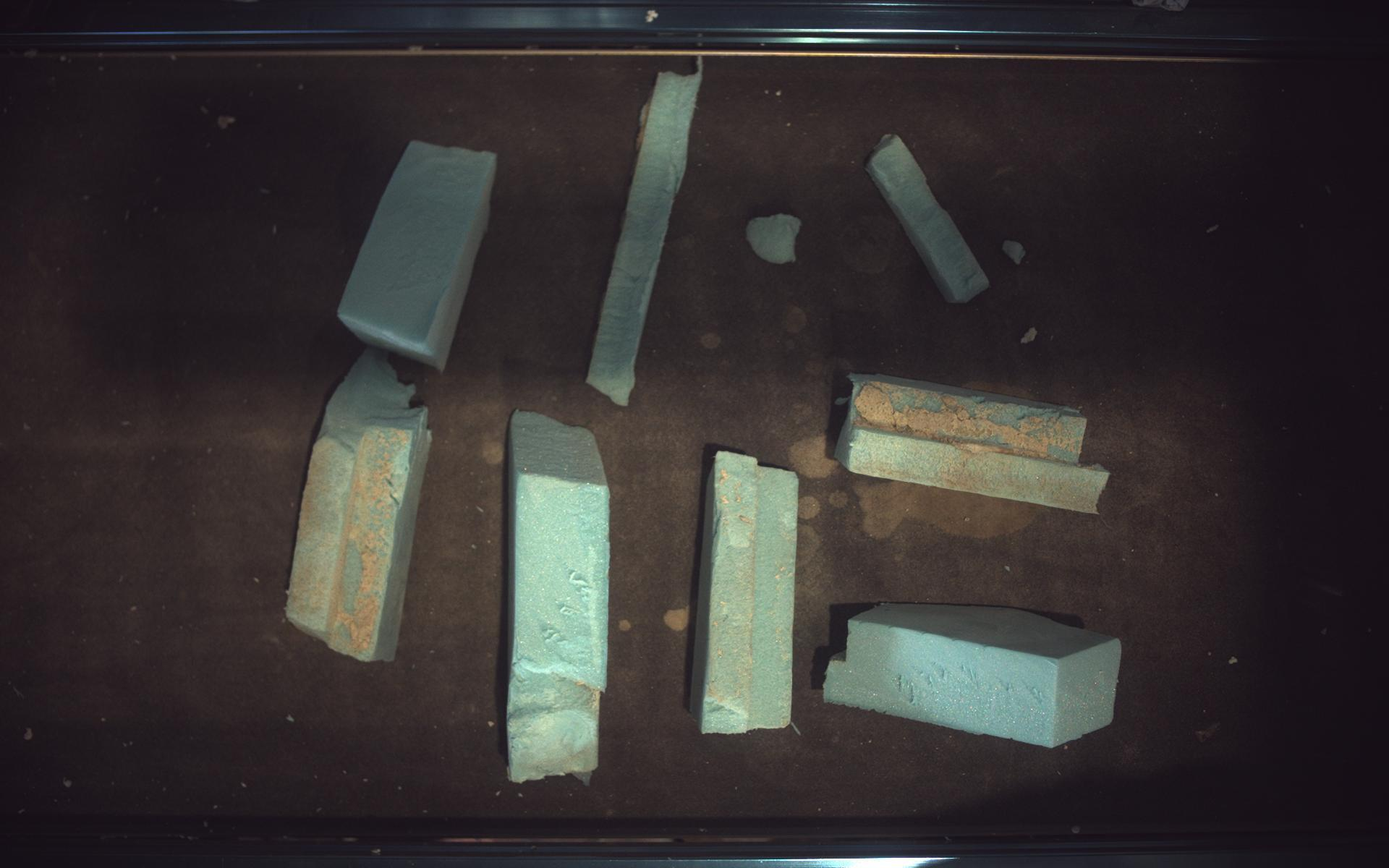foam: (286, 140, 496, 663), (825, 604, 1123, 749), (587, 59, 704, 405), (837, 374, 1111, 514), (507, 411, 610, 783), (337, 140, 496, 370), (692, 451, 799, 735), (868, 134, 991, 302), (747, 213, 802, 263)
